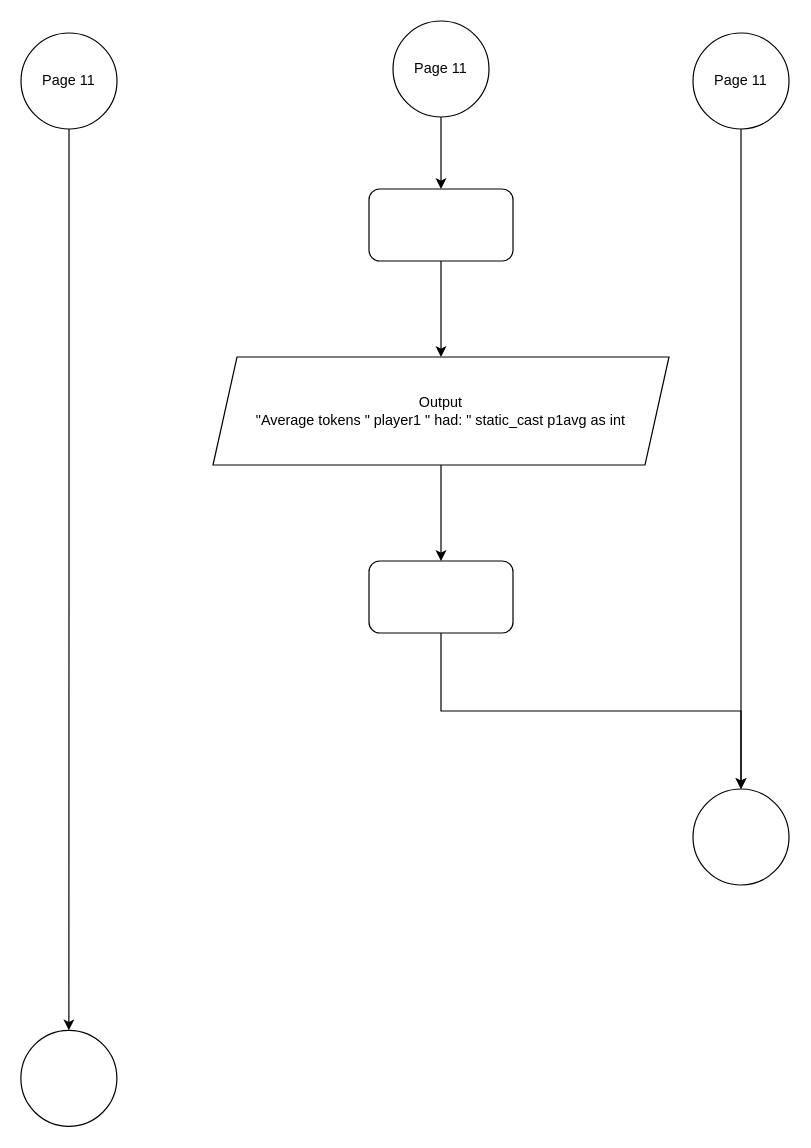
Image size: 811x1148. Some labels were removed from this diagram. Each missing label, with the centre of its shape:
"p1avg/=count" belongs at [440,224].
"roll='0'" belongs at [440,596].
